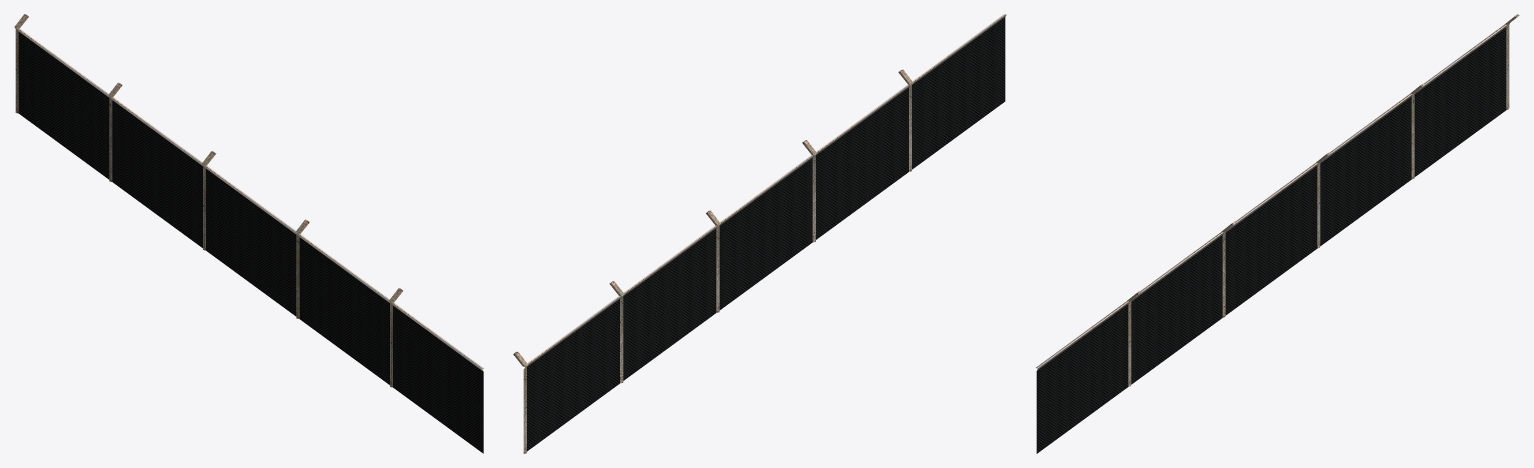
Rendered from M11Z1_ChainFence_B2.glb.
The picture shows the model from 3 angles, left to right: view 1: azimuth 30°, elevation 25°; view 2: azimuth 150°, elevation 25°; view 3: azimuth 330°, elevation 25°; orthographic projection. The views are drawn at different scales.
Visible parts, largest first — view 1: M11Z1_CHAINFENCE_B2; view 2: M11Z1_CHAINFENCE_B2; view 3: M11Z1_CHAINFENCE_B2.
Part boxes in pixels (x1,y1,x2,y2): M11Z1_CHAINFENCE_B2: (14, 14, 484, 453); M11Z1_CHAINFENCE_B2: (513, 14, 1006, 453); M11Z1_CHAINFENCE_B2: (1035, 14, 1519, 453).
Size of the model in its own units: 0.594 by 4.5 by 40.
3 materials, 3 textured.
